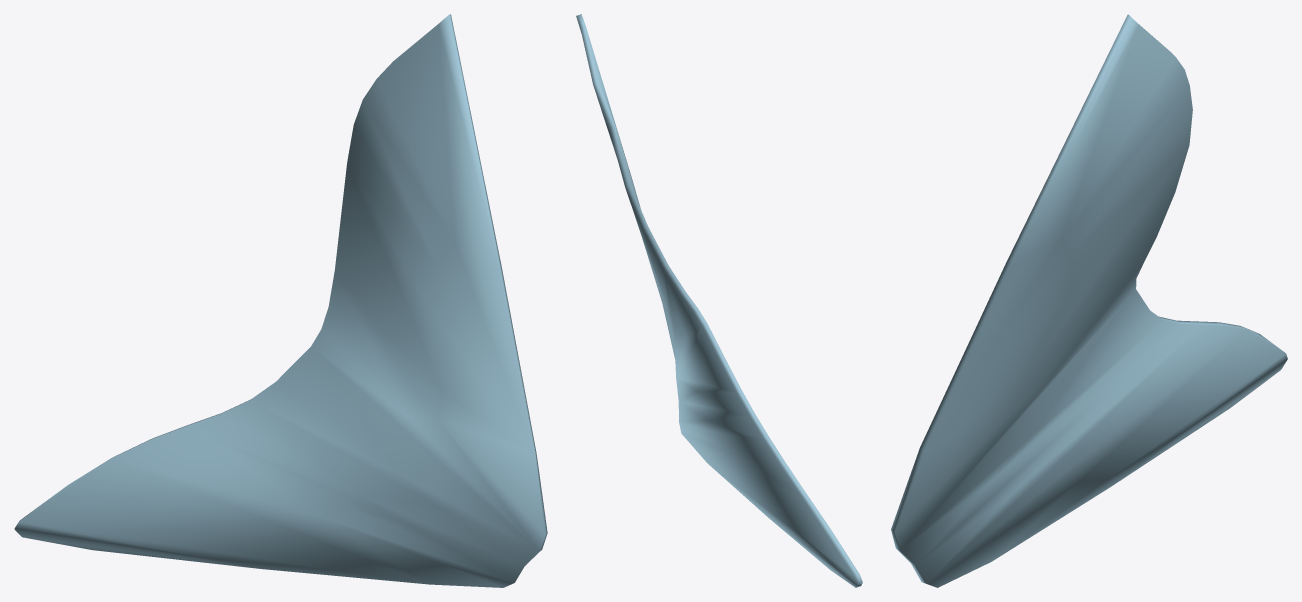
File: articulacoes-sacrospinous-ligament-l.glb
3 renders of one model, left to right at view 1: azimuth 30°, elevation 25°; view 2: azimuth 150°, elevation 25°; view 3: azimuth 270°, elevation 25°, orthographic. The views are drawn at different scales.
Parts seen in each view (by area): view 1: Sacrospinous ligament.l; view 2: Sacrospinous ligament.l; view 3: Sacrospinous ligament.l.
Boxes of the visible parts, <box> form: Sacrospinous ligament.l: <box>14,14,547,587</box>; Sacrospinous ligament.l: <box>576,14,862,587</box>; Sacrospinous ligament.l: <box>891,14,1287,587</box>.
Size of the model in its own units: 0.0341 by 0.0443 by 0.0269.
